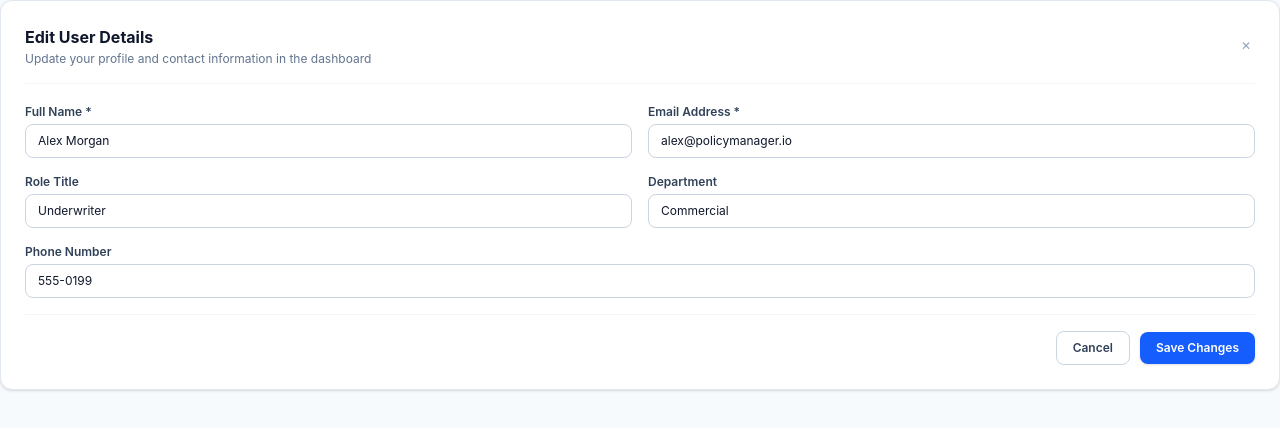
Test: ProfileEditForm Component › validates required fields and email format
Step 1. Clear the field labelled "Full Name *" → (328, 141), box 25,124 -> 632,158
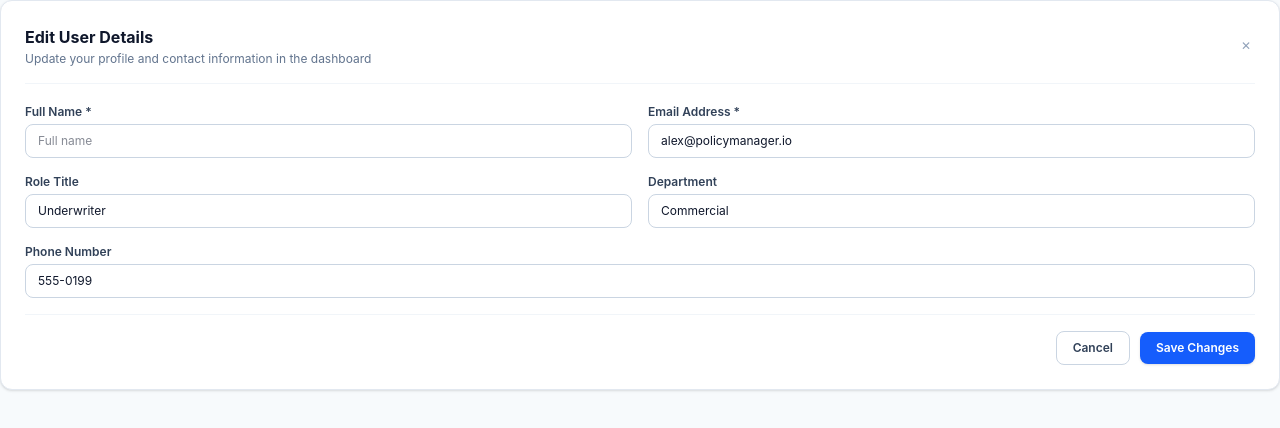
Step 2. Replace the text in the field labelled "Email Address *" with "not-an-email" → (952, 141), box 648,124 -> 1255,158
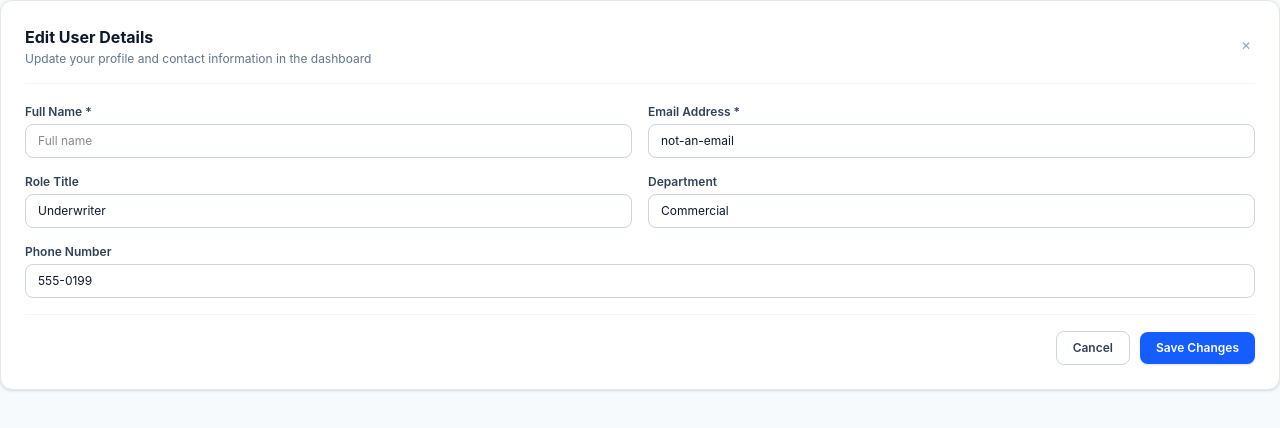
Step 3. Click the button "Save Changes" → click(1197, 348), box 1140,332 -> 1255,364
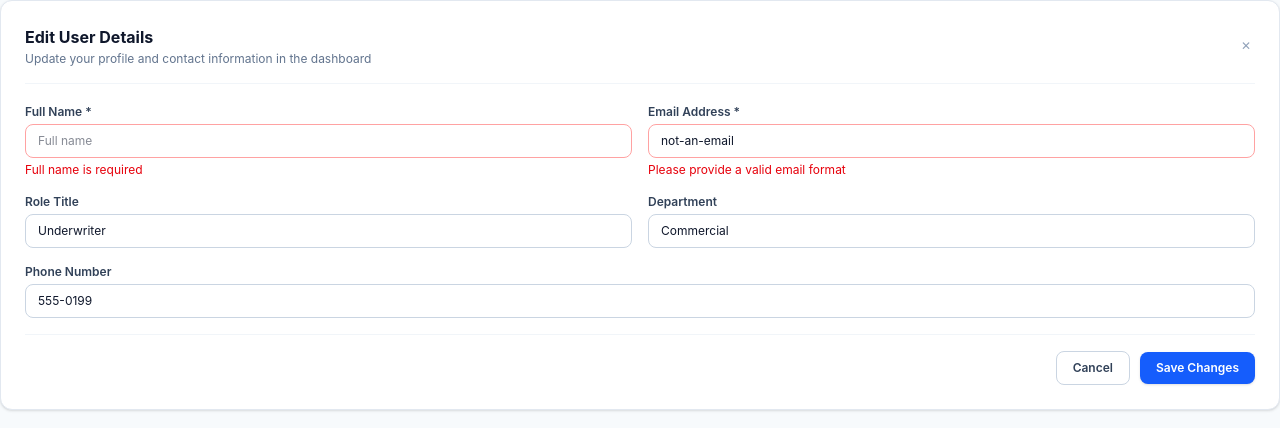
Check: the text "Full name is required" is shown, box 25,162 -> 143,177
Check: the text "Please provide a valid email format" is shown, box 648,162 -> 846,177
